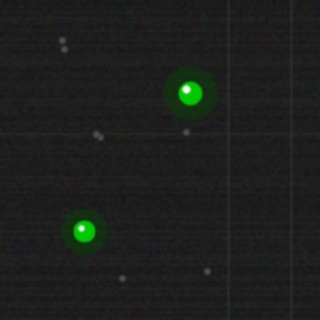green_normal: (176, 79, 204, 107), (71, 218, 97, 244)
